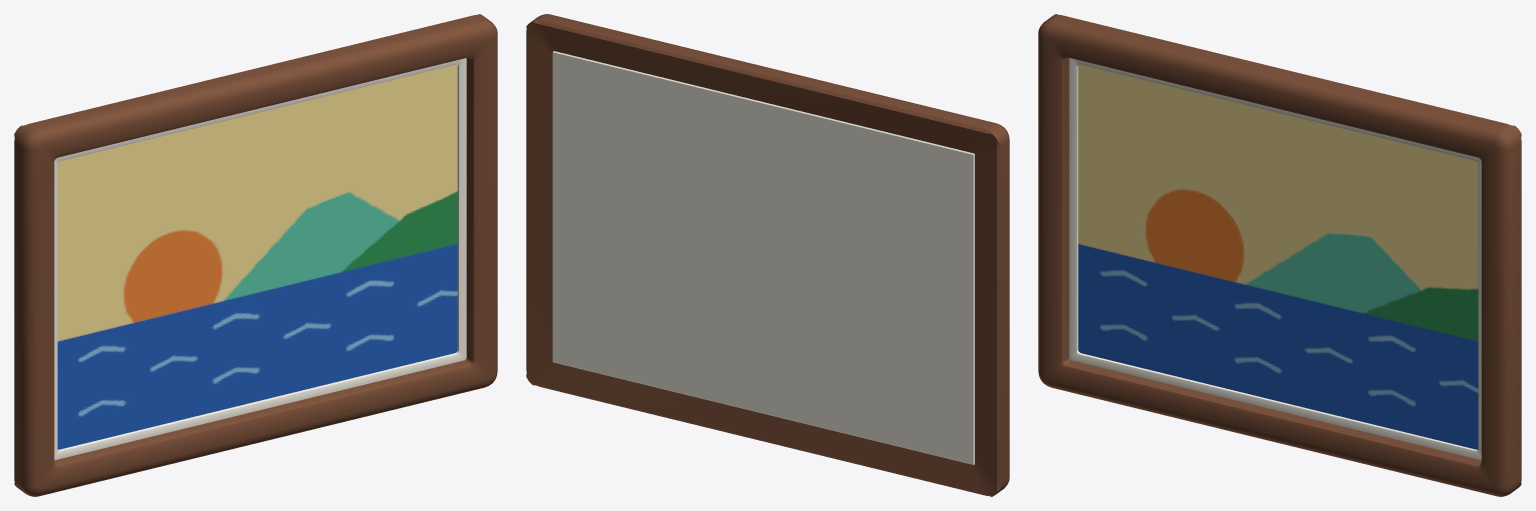
Rendered from quadro_mar_ilha.glb.
3 views of the same model, side by side, from view 1: azimuth 30°, elevation 25°; view 2: azimuth 150°, elevation 25°; view 3: azimuth 330°, elevation 25° (orthographic).
Visible parts, largest first — view 1: quadro_mar_ilha; view 2: quadro_mar_ilha; view 3: quadro_mar_ilha.
Boxes of the visible parts, <box> form: quadro_mar_ilha: <box>14,14,497,496</box>; quadro_mar_ilha: <box>526,14,1009,496</box>; quadro_mar_ilha: <box>1038,14,1521,496</box>.
Size of the model in its own units: 0.734 by 0.5416 by 0.04.
2 materials, 2 textured.
